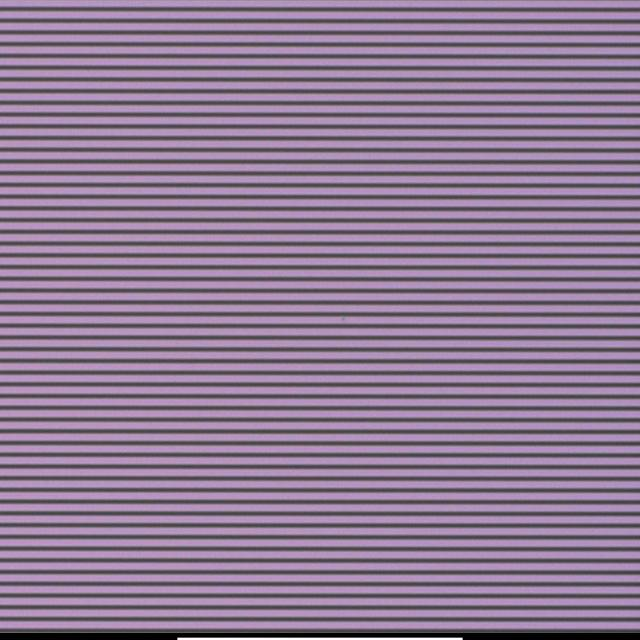nonvisual: (340, 314, 349, 324)
